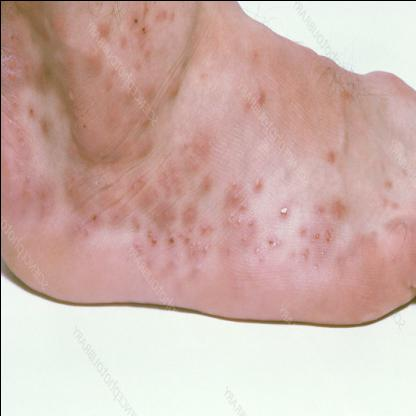Bed Bug: (126, 112, 216, 280), (222, 170, 290, 268), (60, 161, 124, 236), (118, 1, 180, 69), (296, 195, 350, 271), (79, 14, 117, 96), (12, 166, 57, 224), (5, 99, 54, 145), (1, 21, 32, 86), (378, 164, 412, 208), (236, 80, 268, 114), (126, 76, 157, 104), (382, 74, 408, 102), (34, 58, 56, 90), (356, 224, 382, 245), (50, 7, 68, 36), (166, 70, 181, 104), (338, 83, 360, 105), (249, 41, 262, 67), (322, 147, 336, 168), (389, 247, 400, 267), (198, 63, 210, 80)
